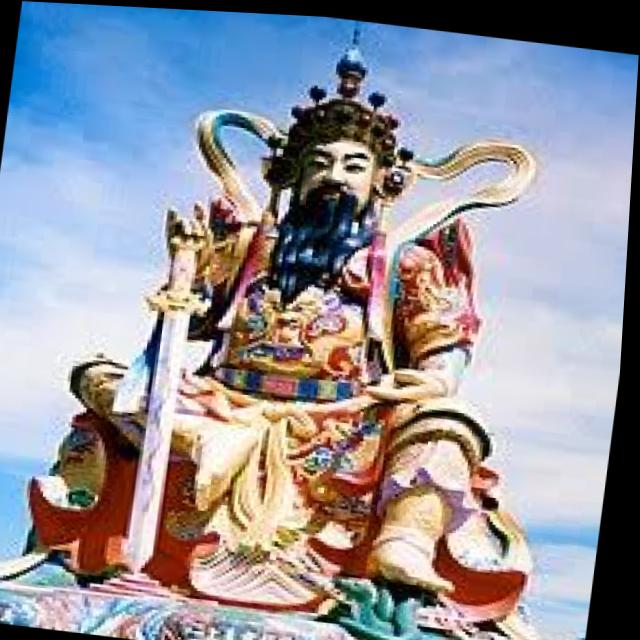Xuan wu: (116, 43, 536, 625)
